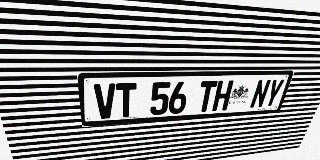5: (150, 82, 171, 115)
6: (168, 81, 189, 114)
H: (212, 80, 234, 111)
N: (249, 79, 272, 109)
T: (116, 83, 136, 118), (196, 81, 218, 112)
V: (94, 83, 116, 119)
Y: (263, 79, 285, 108)
